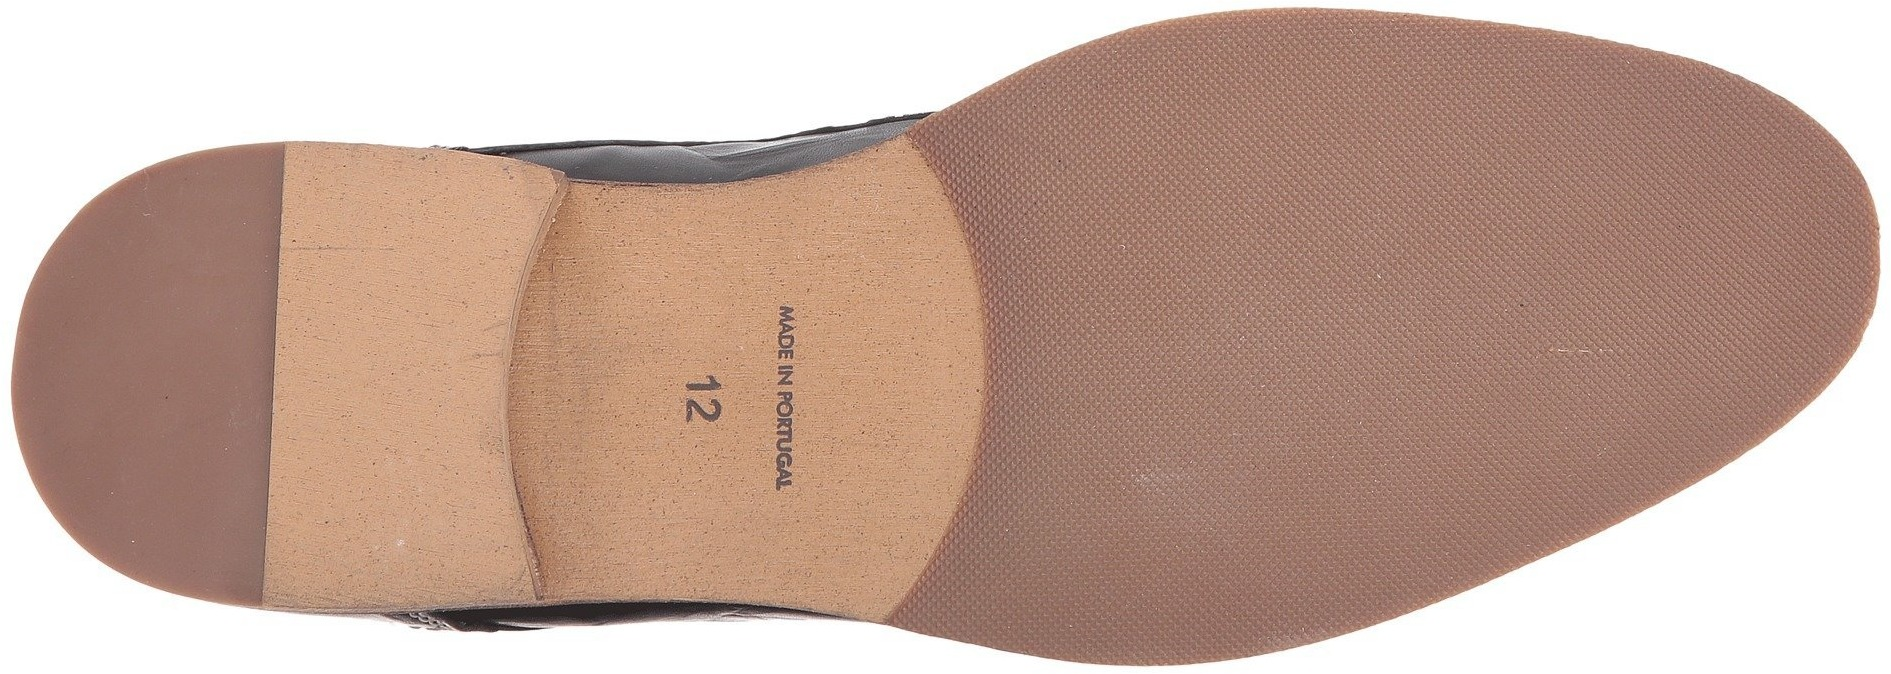exclude: (509, 109, 993, 647)
other: (1280, 61, 1615, 415), (1003, 99, 1265, 402), (1014, 408, 1290, 646), (31, 265, 289, 497), (1623, 174, 1829, 383), (295, 188, 499, 385), (1302, 430, 1469, 584), (1476, 418, 1606, 531)
text: (766, 402, 863, 499), (671, 363, 755, 449), (761, 299, 839, 387)
